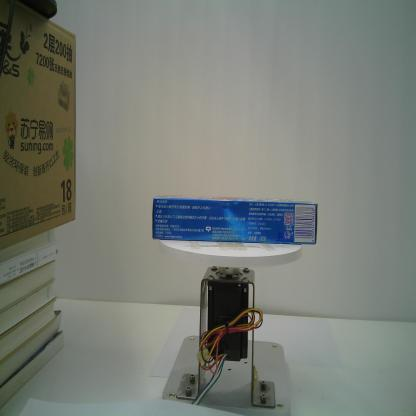Personal Hygiene: (150, 194, 319, 246)
